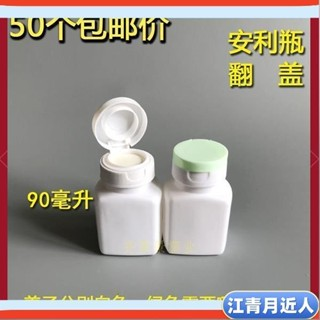medicinejar: (87, 100, 166, 261), (167, 141, 230, 256)
